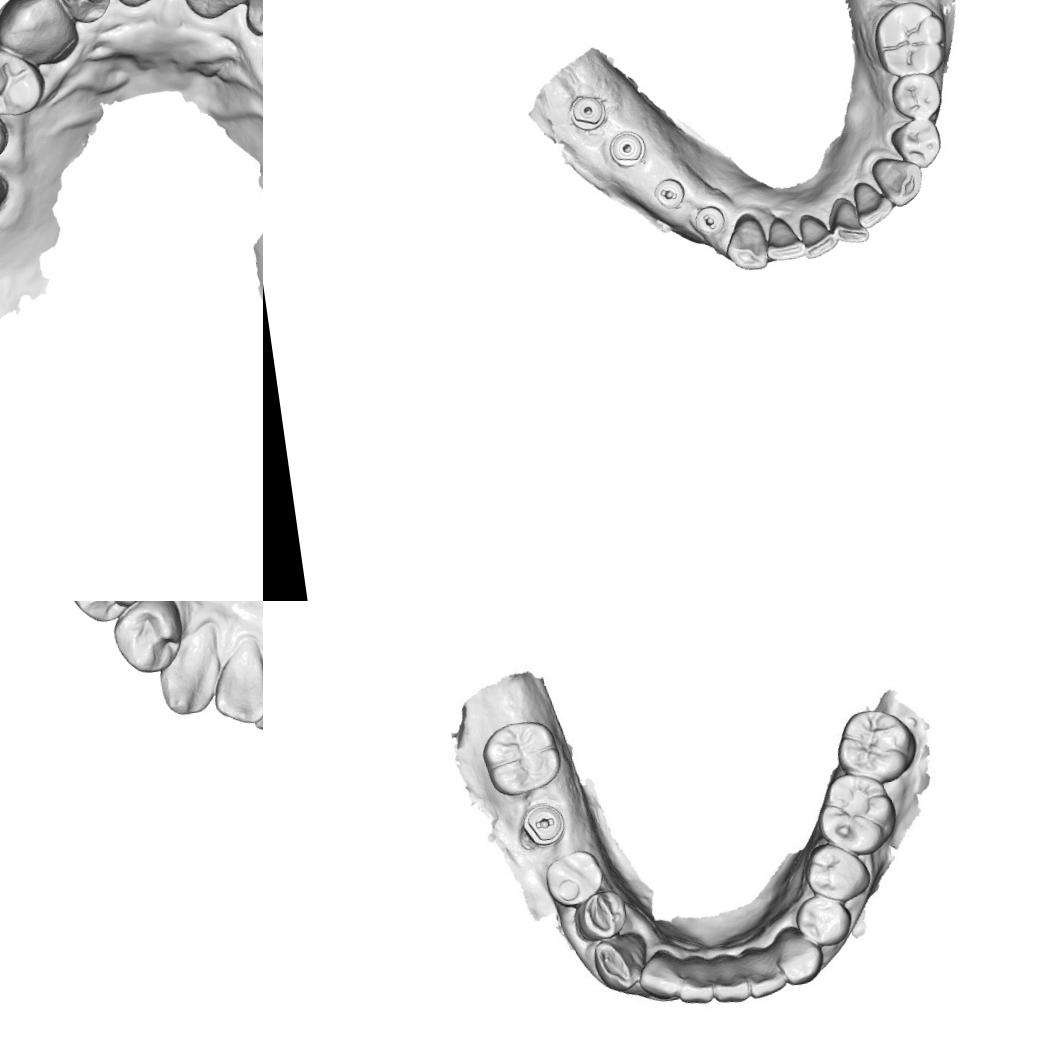canine: (152, 628, 229, 720), (0, 0, 80, 72), (592, 928, 648, 994), (868, 150, 926, 212), (720, 213, 769, 275), (777, 924, 825, 987)
implant: (606, 127, 650, 170), (568, 92, 610, 134)
implant_minus: (513, 796, 573, 854), (690, 200, 728, 239), (651, 174, 688, 212)
incisor: (207, 645, 263, 729), (169, 0, 263, 29), (850, 176, 896, 230), (794, 208, 840, 261), (762, 212, 808, 264), (826, 197, 872, 249), (640, 949, 681, 996), (52, 0, 113, 31), (746, 951, 787, 996), (712, 964, 756, 1002), (244, 648, 263, 731), (678, 963, 716, 999), (240, 0, 263, 42)
molar: (868, 0, 953, 82), (836, 704, 920, 786), (815, 772, 897, 856), (482, 716, 564, 797)
premolar: (108, 601, 188, 677), (0, 37, 48, 126), (805, 839, 869, 901), (886, 114, 946, 173), (544, 851, 604, 909), (886, 68, 946, 124), (795, 890, 852, 946), (578, 889, 627, 936), (62, 601, 150, 625)
